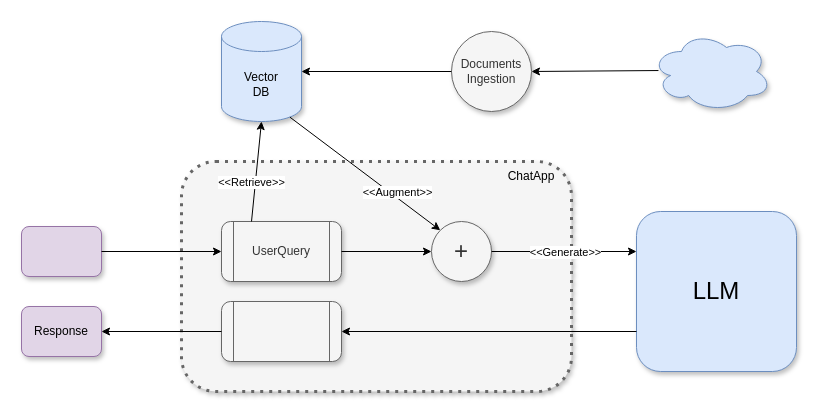
Image size: 820x417. Some labels were removed from this diagram. Each missing label, with the centre of its shape:
"Knowledge Base" goes at point (712, 72).
"Prompt" goes at point (62, 253).
"Response Handling" goes at point (282, 332).
